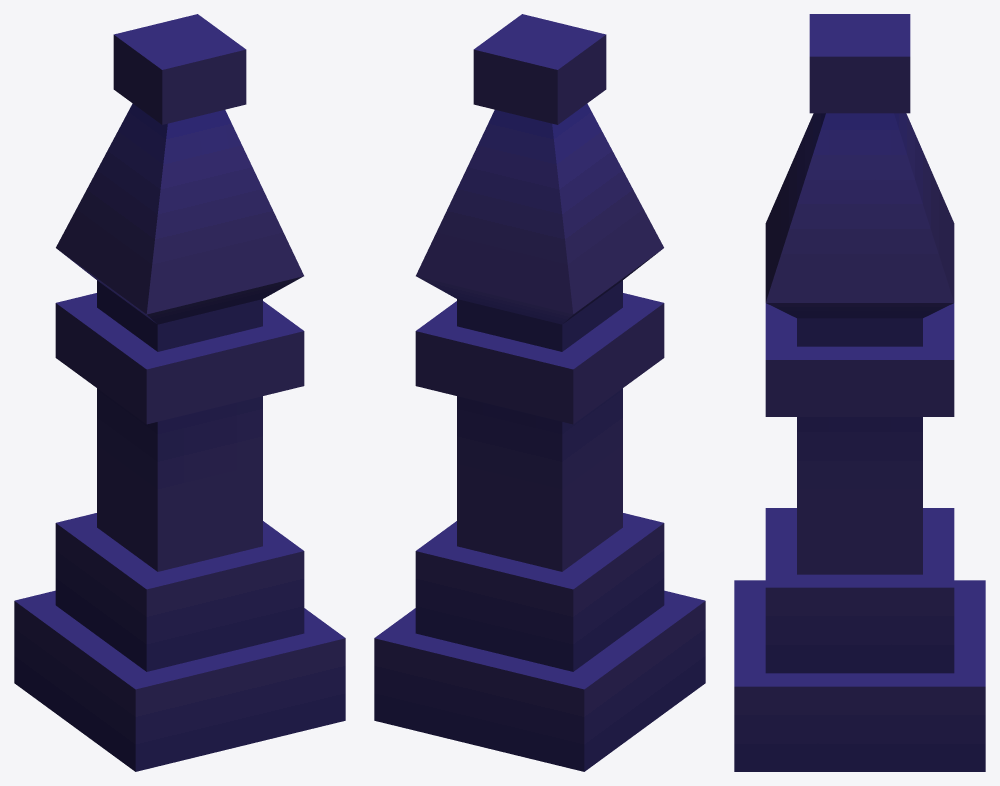
The model's file is Bishop Black.gltf.
3 views of the same model, side by side, from view 1: azimuth 30°, elevation 25°; view 2: azimuth 150°, elevation 25°; view 3: azimuth 270°, elevation 25° (orthographic). The views are drawn at different scales.
Parts seen in each view (by area): view 1: cube (×6); view 2: cube (×6); view 3: cube (×6).
Boxes of the visible parts, bbox=[...] form: cube (×6): bbox=[14, 14, 345, 771]; cube (×6): bbox=[374, 14, 705, 771]; cube (×6): bbox=[734, 14, 985, 771].
Bounding box in the file's own units: 0.125 × 0.375 × 0.125.
1 material, 1 textured.
